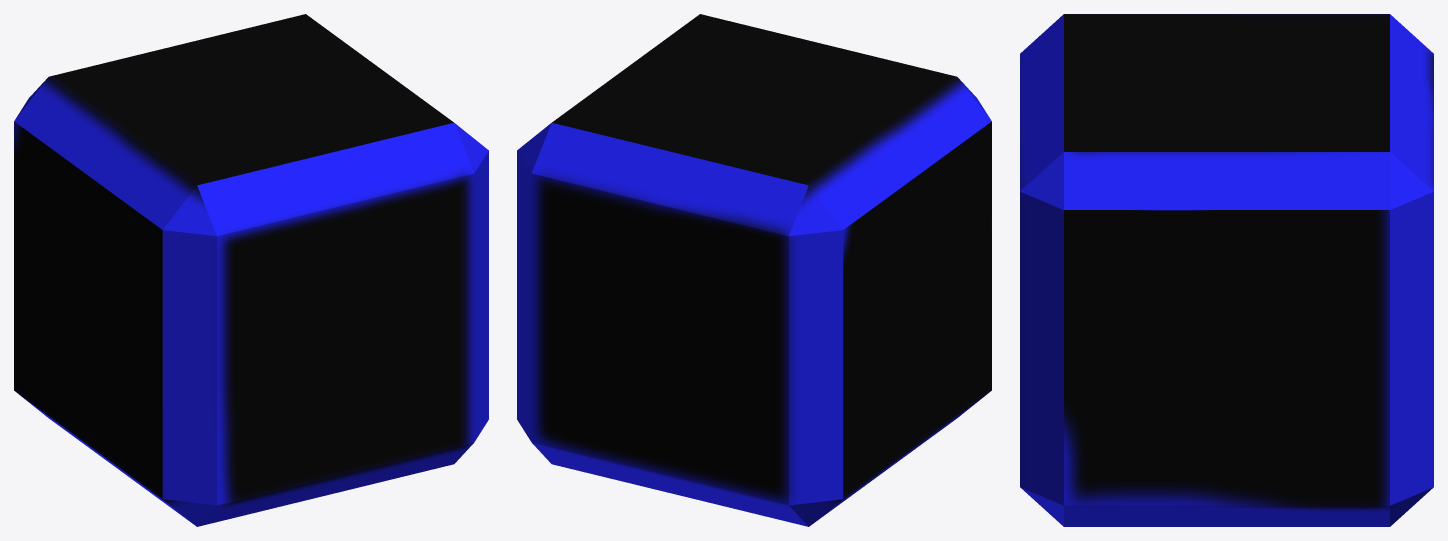
The model's file is block.gltf.
3 renders of one model, left to right at view 1: azimuth 30°, elevation 25°; view 2: azimuth 150°, elevation 25°; view 3: azimuth 270°, elevation 25°, orthographic. The views are drawn at different scales.
Parts seen in each view (by area): view 1: 立方体; view 2: 立方体; view 3: 立方体.
Part boxes in pixels (left/top/right/bottom): 立方体: left=14, top=14, right=488, bottom=526; 立方体: left=517, top=14, right=991, bottom=526; 立方体: left=1020, top=14, right=1433, bottom=526.
Size of the model in its own units: 2 by 2 by 2.
1 material, 1 textured.
